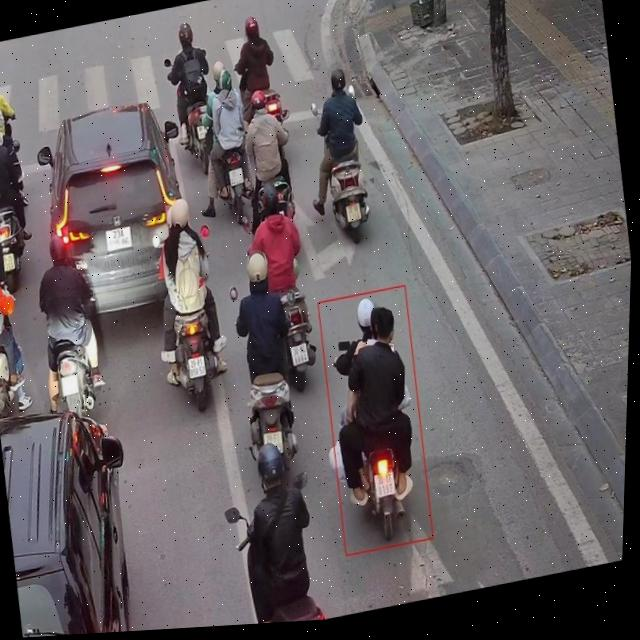car: (32, 94, 195, 333), (0, 393, 154, 639)
motorcycle: (163, 307, 228, 423), (239, 368, 305, 482), (357, 440, 414, 547), (48, 342, 102, 433), (326, 158, 379, 247), (219, 149, 256, 229), (0, 202, 31, 296)
plate: (370, 468, 398, 501), (104, 226, 133, 251), (58, 371, 83, 399), (185, 354, 209, 381), (289, 341, 313, 368), (344, 203, 363, 224), (228, 167, 247, 187)
